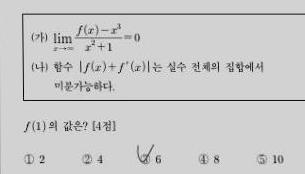choice: (136, 145, 154, 165)
not-choice: (254, 152, 269, 166), (21, 153, 35, 166), (79, 152, 93, 165), (196, 152, 210, 165)
